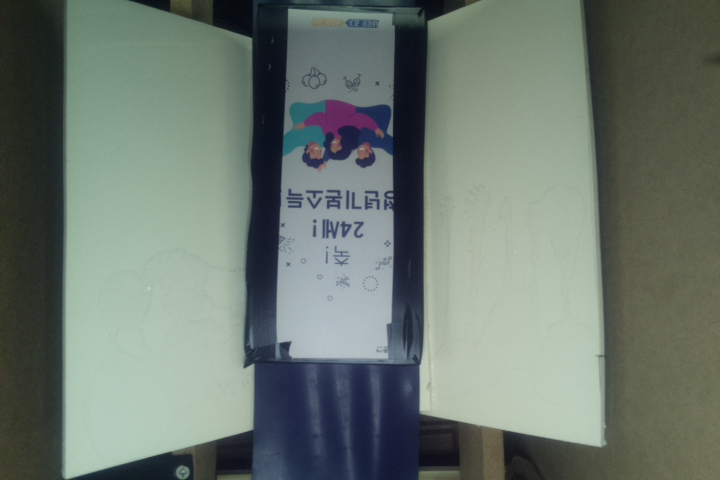book: (245, 4, 426, 370)
